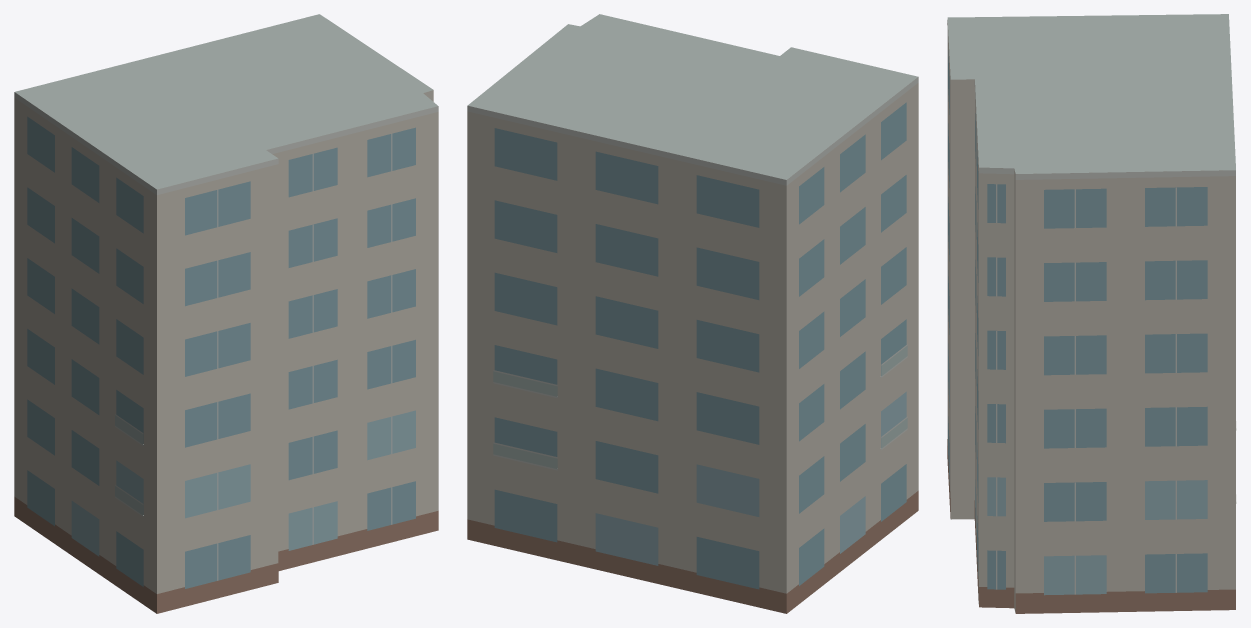
File: survey-upis-32742559.glb
3 renders of one model, left to right at view 1: azimuth 30°, elevation 25°; view 2: azimuth 150°, elevation 25°; view 3: azimuth 270°, elevation 25°, orthographic. The views are drawn at different scales.
Visible parts, largest first — view 1: survey-upis-32742559.tmp; view 2: survey-upis-32742559.tmp; view 3: survey-upis-32742559.tmp.
Boxes of the visible parts, x1,y1,x2,y2 form: survey-upis-32742559.tmp: (14, 14, 438, 613); survey-upis-32742559.tmp: (467, 14, 918, 613); survey-upis-32742559.tmp: (947, 14, 1236, 613).
Size of the model in its own units: 14.3 by 18.3 by 10.91.
